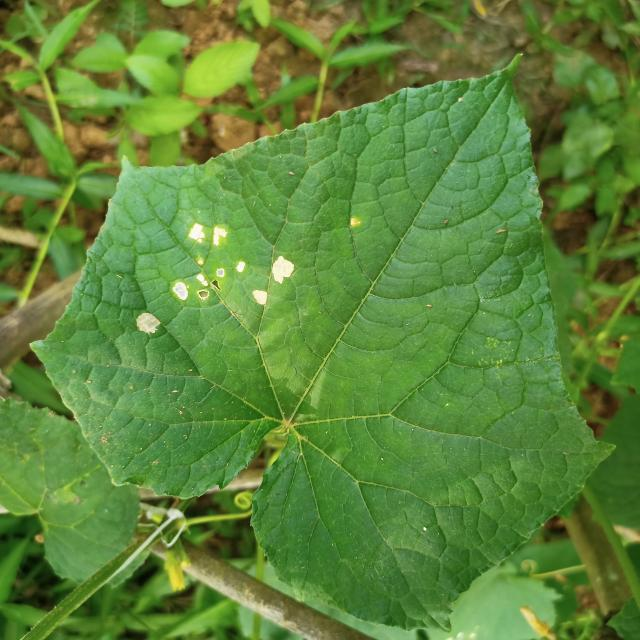disease_cucumber: (138, 224, 296, 335)
